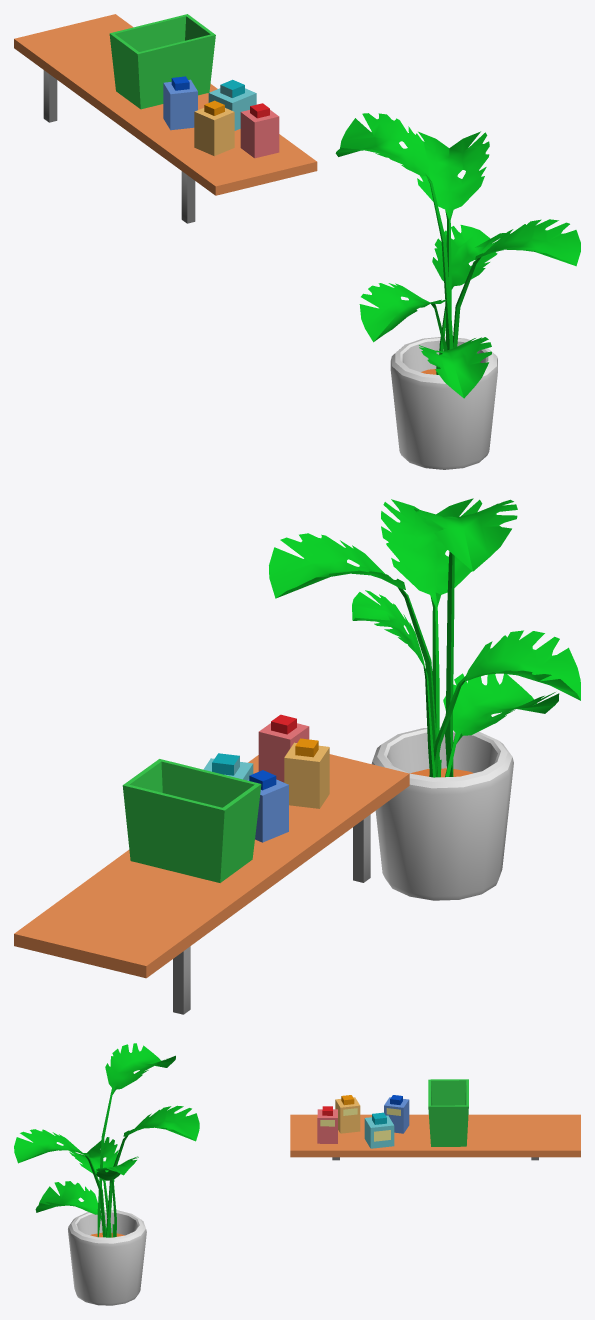
The model's file is SalaEstarObjetos04.fbx.
The picture shows the model from 3 angles, top to bottom: view 1: azimuth 30°, elevation 25°; view 2: azimuth 150°, elevation 25°; view 3: azimuth 270°, elevation 25°; orthographic projection. The views are drawn at different scales.
Parts seen in each view (by area): view 1: SalaEstarObjetos04; view 2: SalaEstarObjetos04; view 3: SalaEstarObjetos04.
Boxes of the visible parts, x1=… form: SalaEstarObjetos04: x1=14, y1=14, x2=580, y2=469; SalaEstarObjetos04: x1=14, y1=498, x2=580, y2=1014; SalaEstarObjetos04: x1=14, y1=1043, x2=580, y2=1305.
Size of the model in its own units: 95.98 by 154 by 349.
